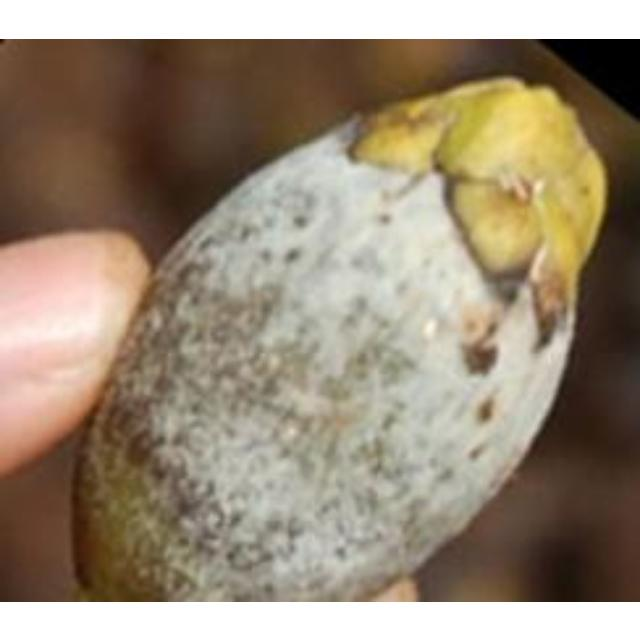damaged: (68, 77, 611, 599)
